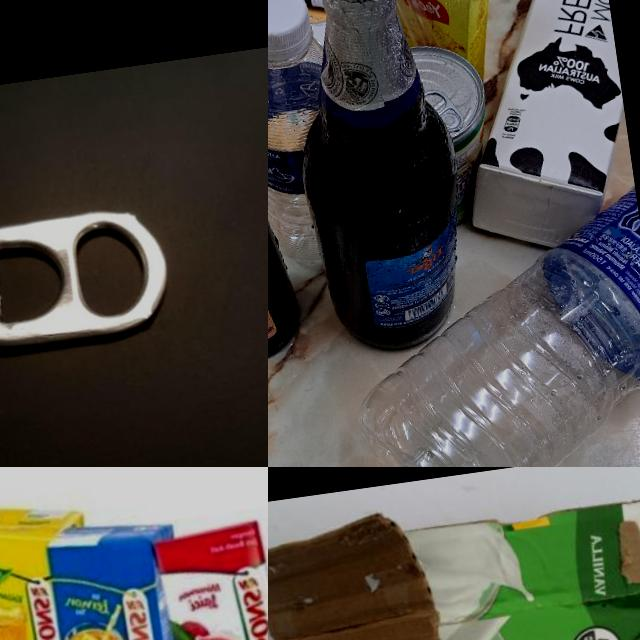aba de lata: (0, 198, 175, 361), (420, 87, 463, 134)
caixinha: (433, 0, 640, 266), (44, 515, 210, 640), (0, 492, 121, 640), (159, 506, 268, 640), (382, 0, 506, 88)
garrafa de vidro: (271, 0, 478, 362), (268, 71, 309, 373)
garrafa plástica: (330, 173, 640, 467), (268, 35, 353, 277)
lata: (402, 35, 503, 232), (268, 0, 347, 39)
papelão: (268, 467, 640, 640)
tampa plástica: (268, 0, 317, 63)
